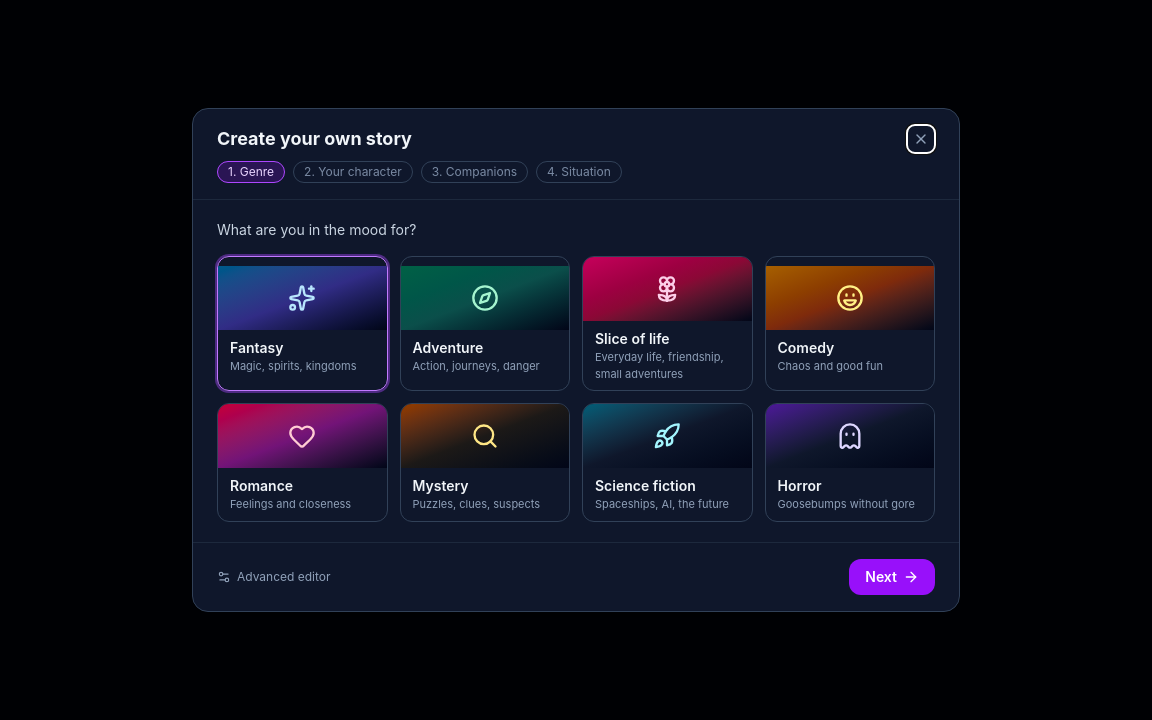
Test: StoryWizard › needs an idea before an own story can start
Click the button "Next" at x=892, y=577, box [849,559,935,595]
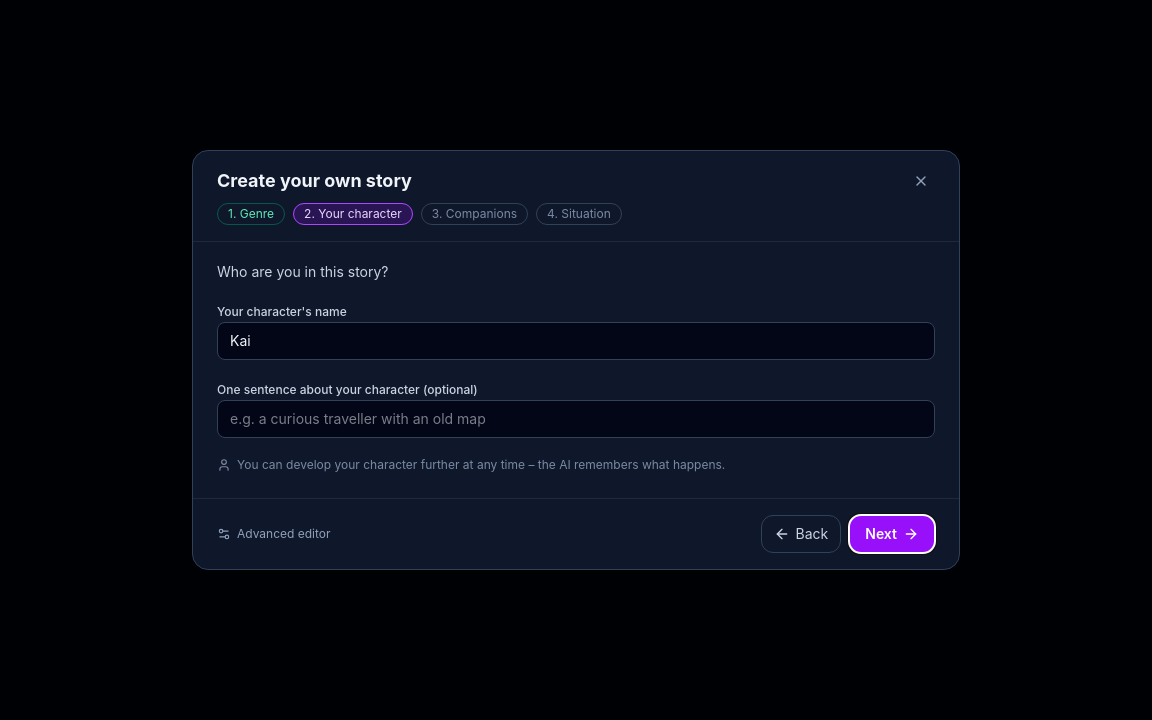
Click the button "Next" at x=892, y=534, box [849,515,935,553]
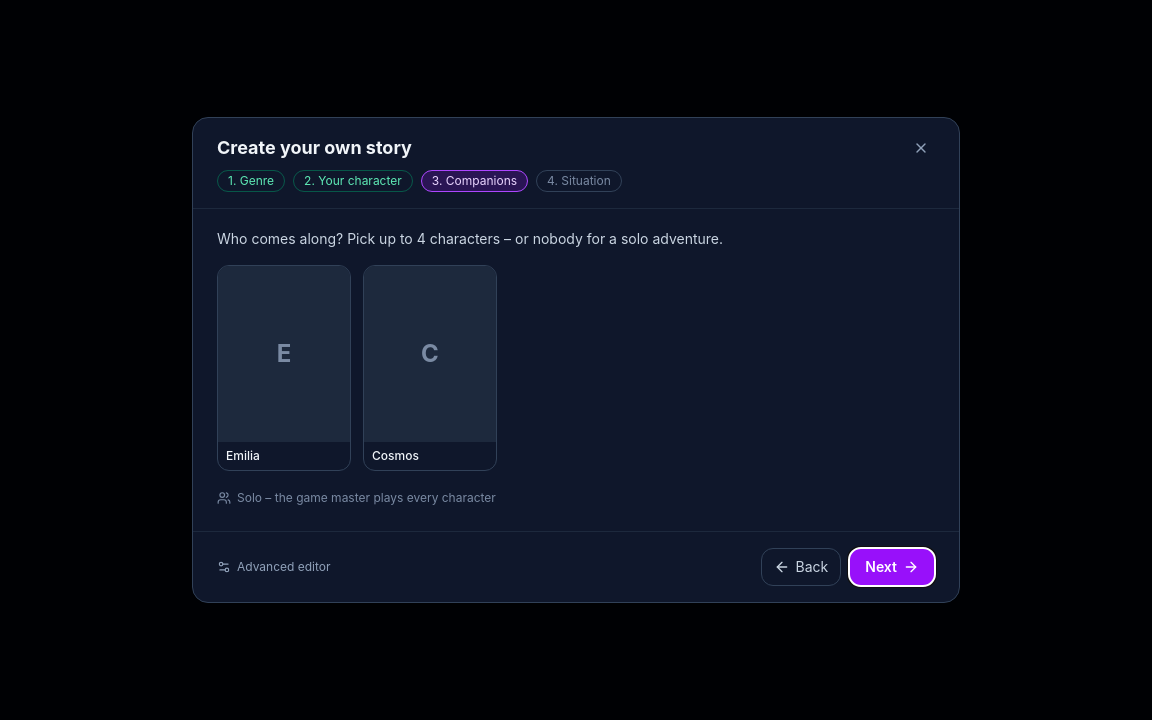
Click the button "Next" at x=892, y=567, box [849,548,935,586]
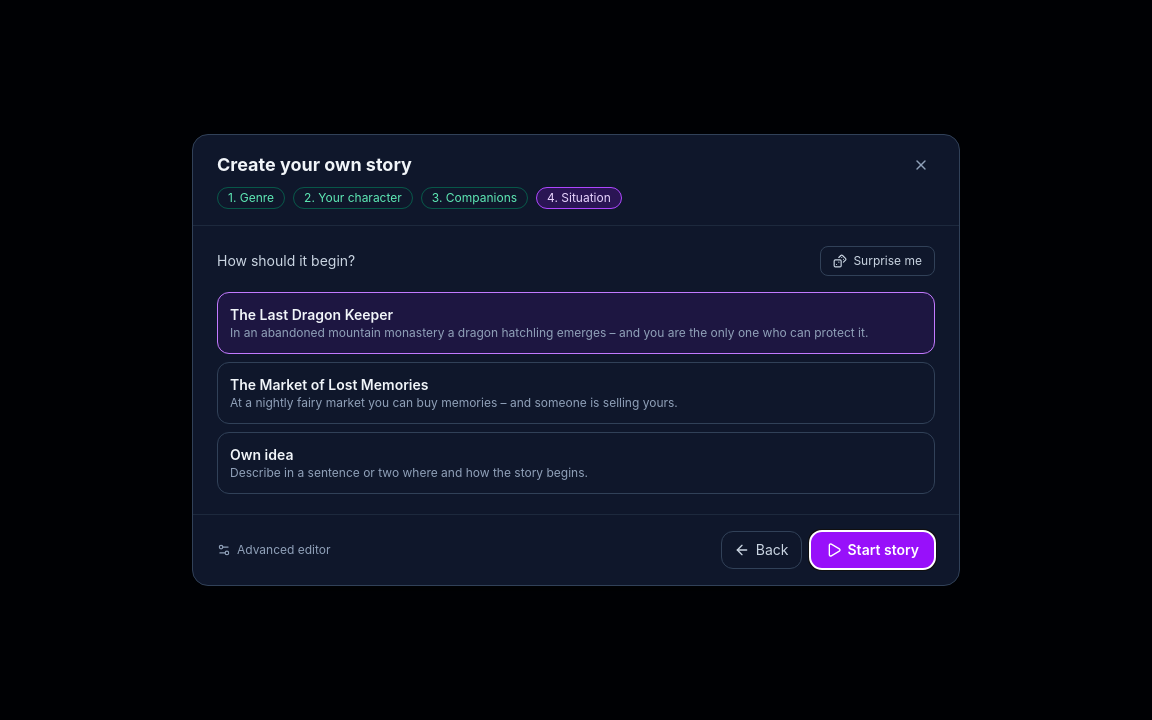
Click the radio button labelled "Own idea" at x=576, y=463, box [217,432,935,494]
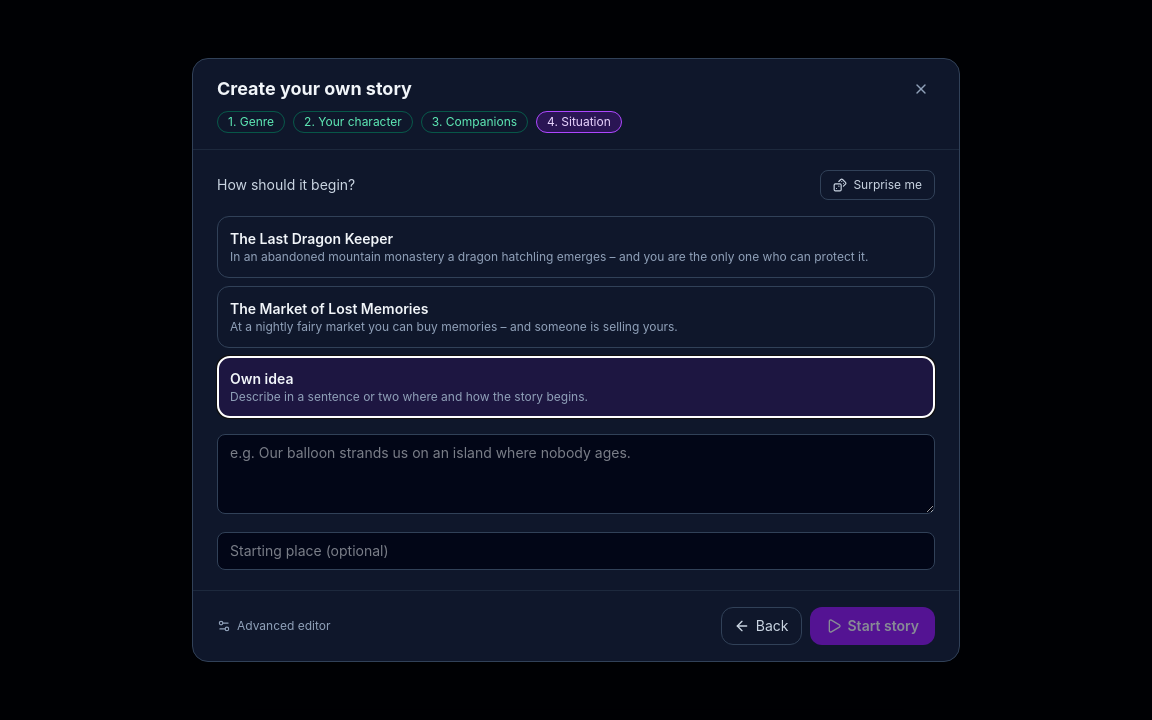
Now the button "Start story" is disabled, box [810,607,935,645]
Type "We wake up on the moon." into the text box named "Own idea" at x=576, y=474, box [217,434,935,514]
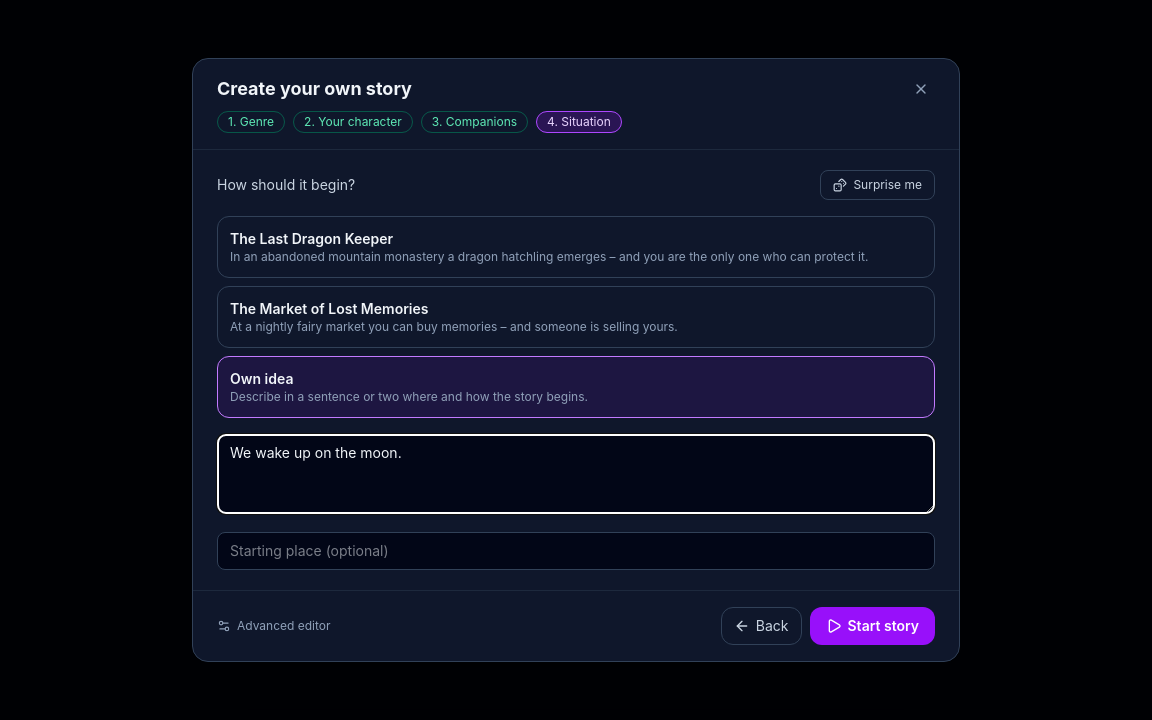
Now the button "Start story" is enabled, box [810,607,935,645]
